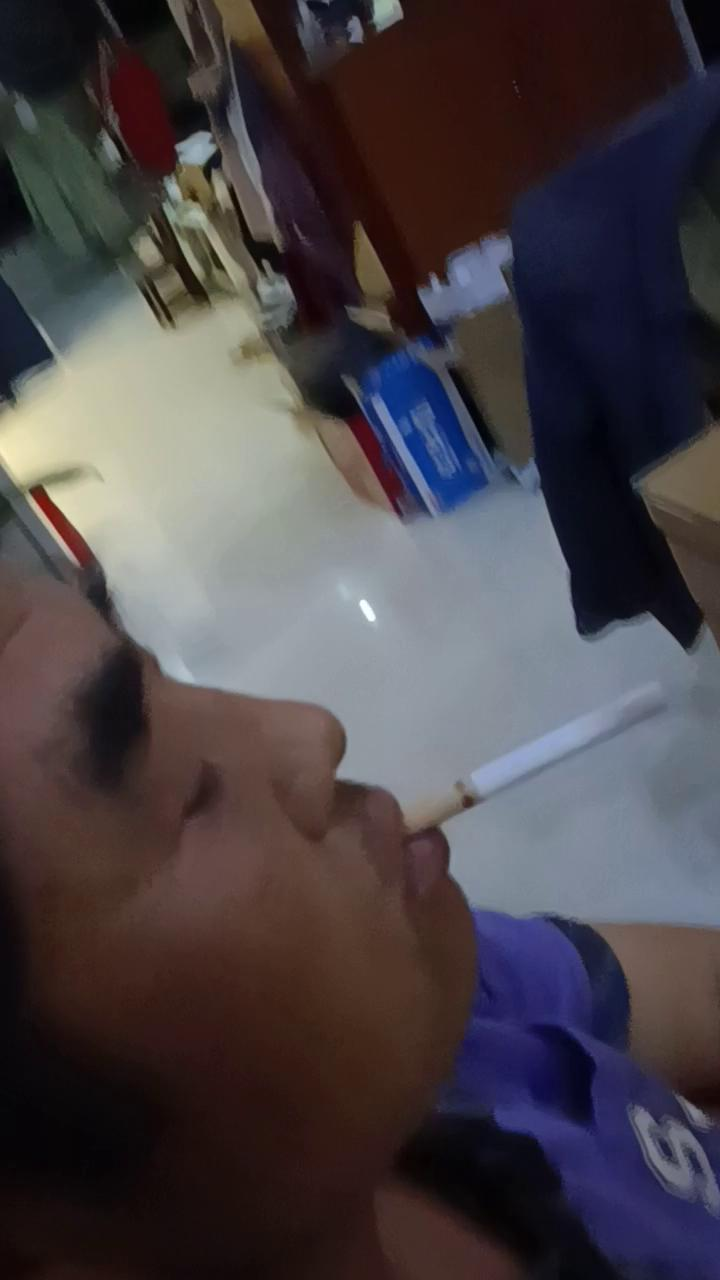smoke: (399, 680, 670, 838)
